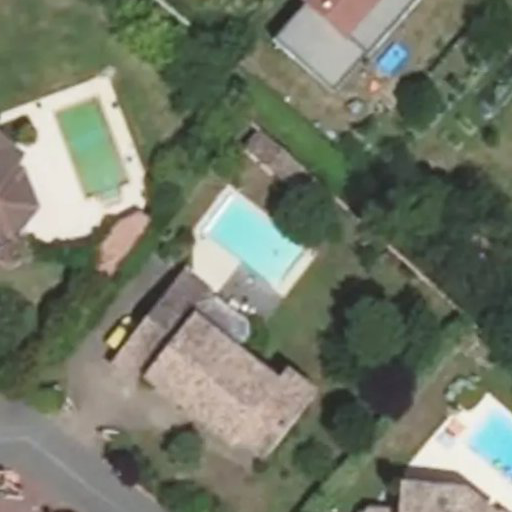pool: (193, 242, 309, 252)
